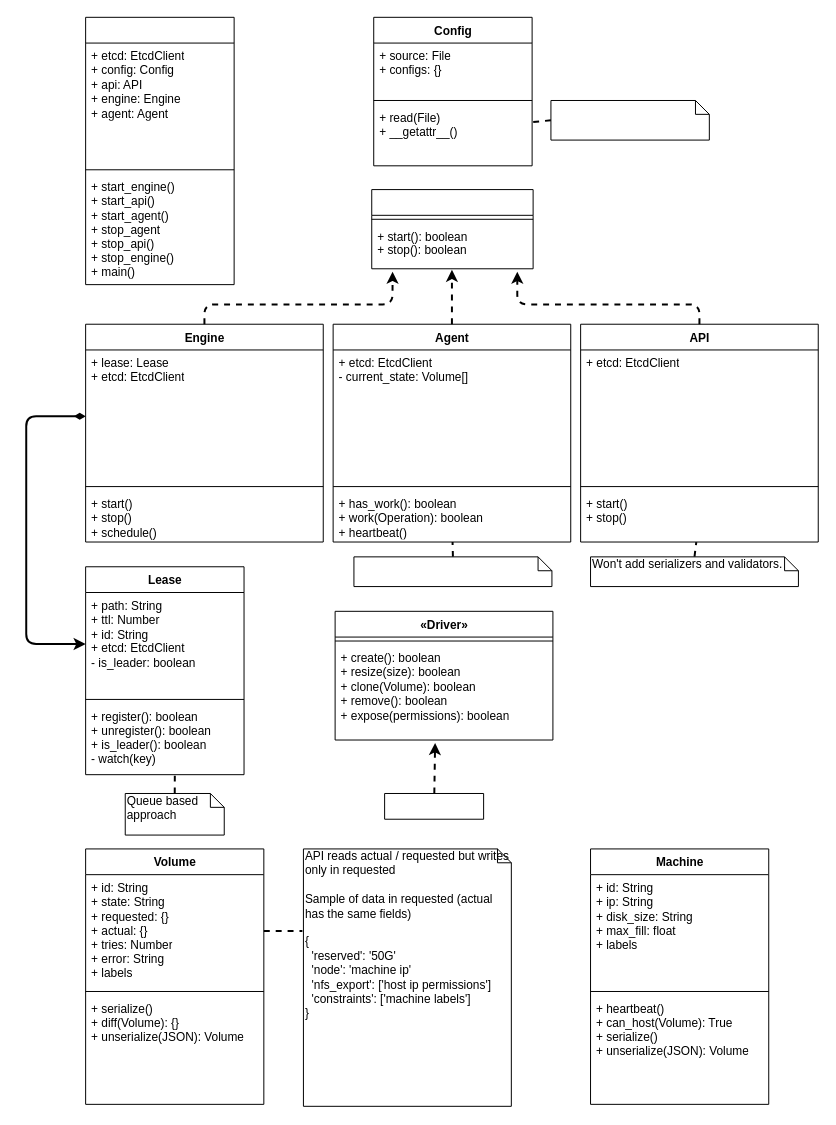
The diagram is 836 pixels wide and 1125 high, and some of its shapes have lost their labels. Here are the shapes that lost their labels. From the top down, the box of each, then its label:
(550, 99, 709, 140): getattr -> key value from configs dict
(85, 16, 234, 285): Cobalt
(371, 189, 533, 269): «Service»
(353, 556, 552, 587): Watch for changes in volumes / machine heartbeat
(384, 792, 484, 819): BTRFSDriver
